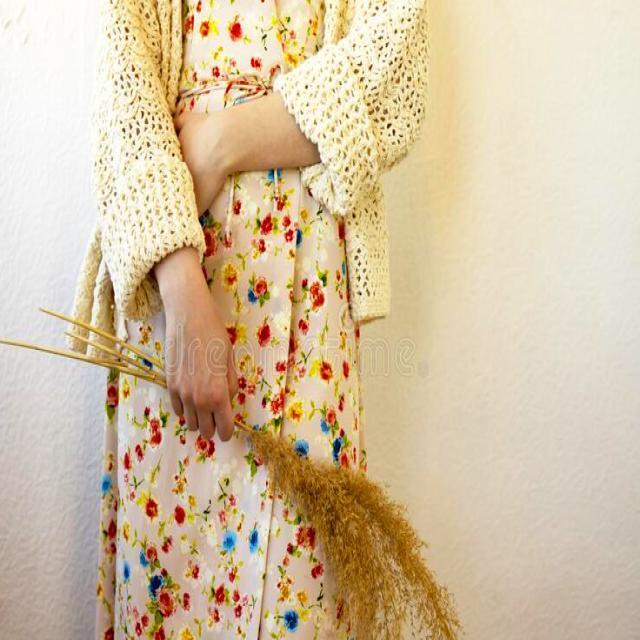clothes: (80, 4, 410, 640)
